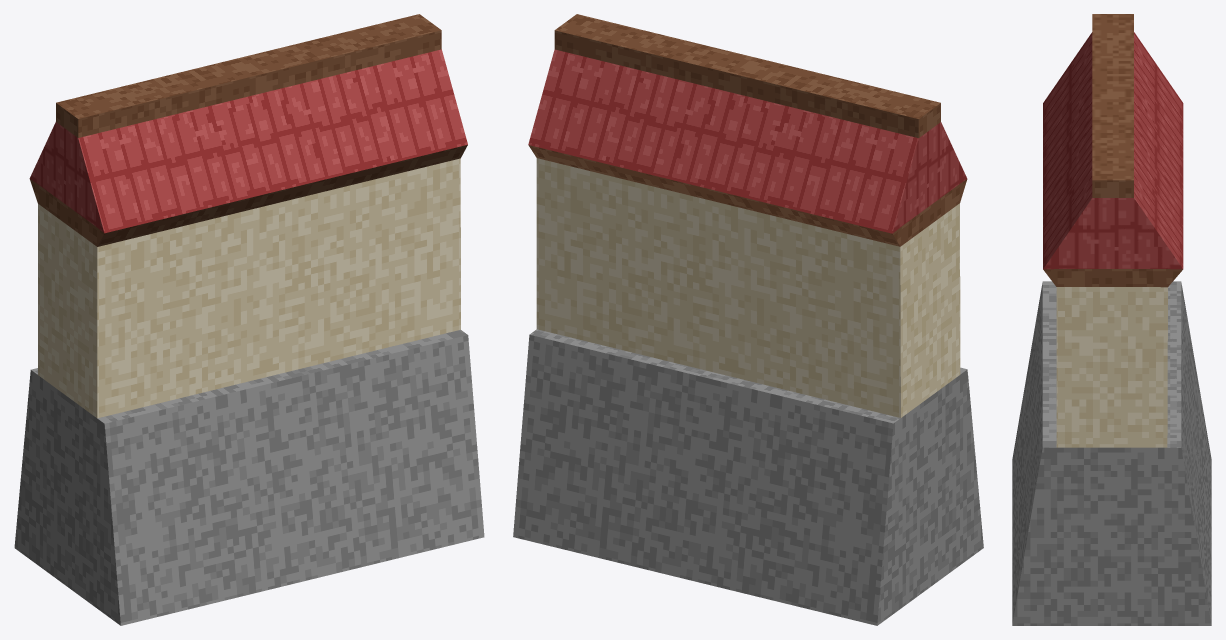
File: MuroJapon.fbx
3 renders of one model, left to right at view 1: azimuth 30°, elevation 25°; view 2: azimuth 150°, elevation 25°; view 3: azimuth 270°, elevation 25°, orthographic. The views are drawn at different scales.
Parts seen in each view (by area): view 1: Muro; view 2: Muro; view 3: Muro.
Boxes of the visible parts, <box> form: Muro: <box>14,14,484,625</box>; Muro: <box>513,14,983,625</box>; Muro: <box>1012,14,1211,625</box>.
Size of the model in its own units: 2 by 1.01 by 2.5.
Materials: 1 (1 with a texture image).
